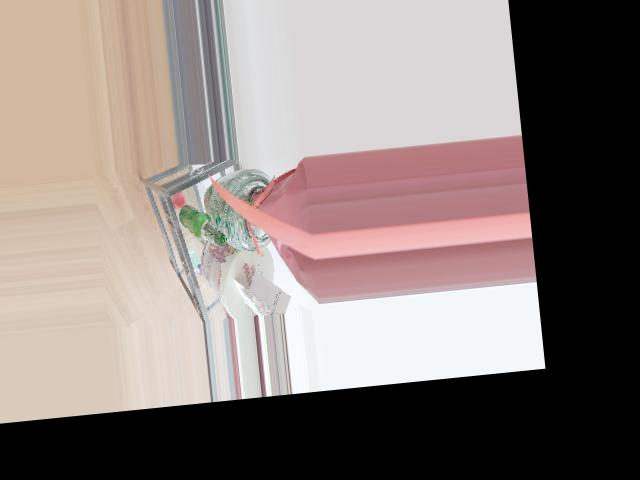beer: (177, 200, 226, 250)
